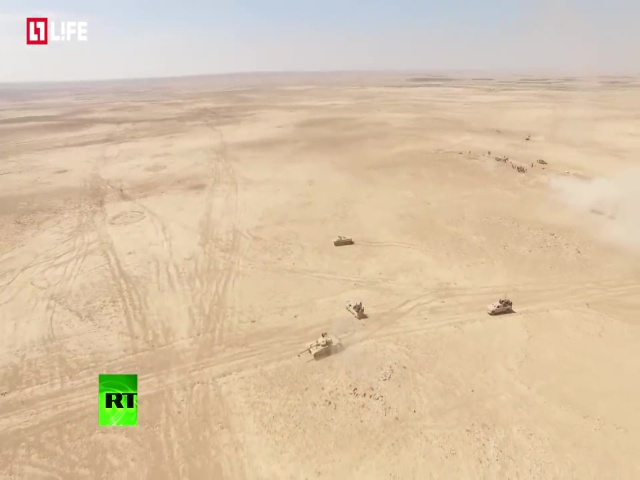vehicle: (307, 334, 345, 362), (485, 298, 513, 318), (345, 298, 367, 320), (331, 235, 355, 249)
